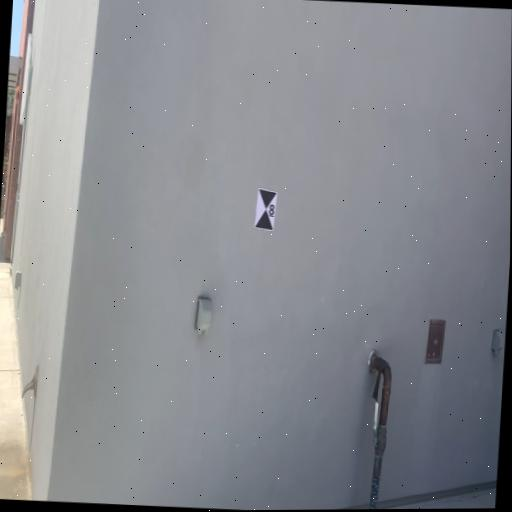target8: (253, 187, 278, 233)
